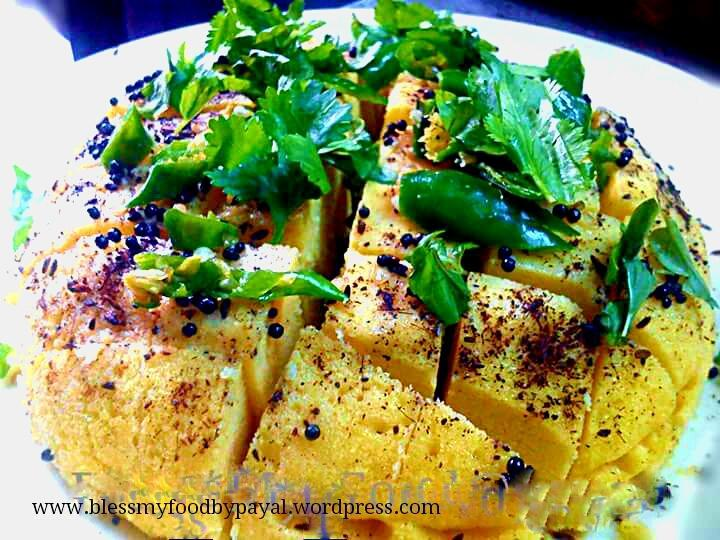dhokla: (36, 26, 713, 540)
